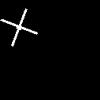single_crochet: (1, 9, 36, 45)
